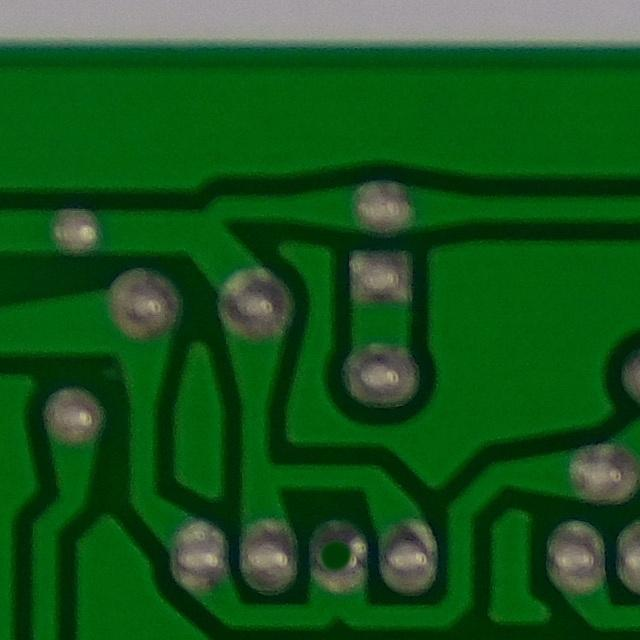missing_hole: (297, 519, 376, 594)
